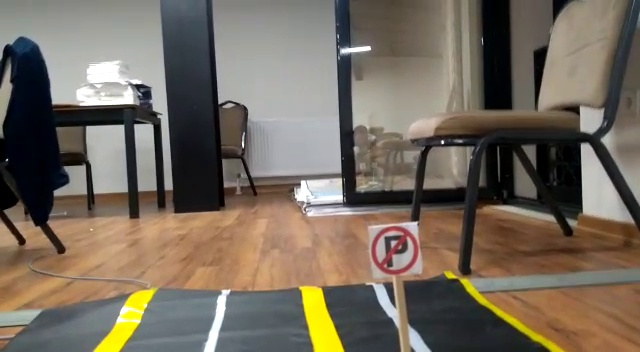park_yapilmaz: (368, 224, 420, 277)
